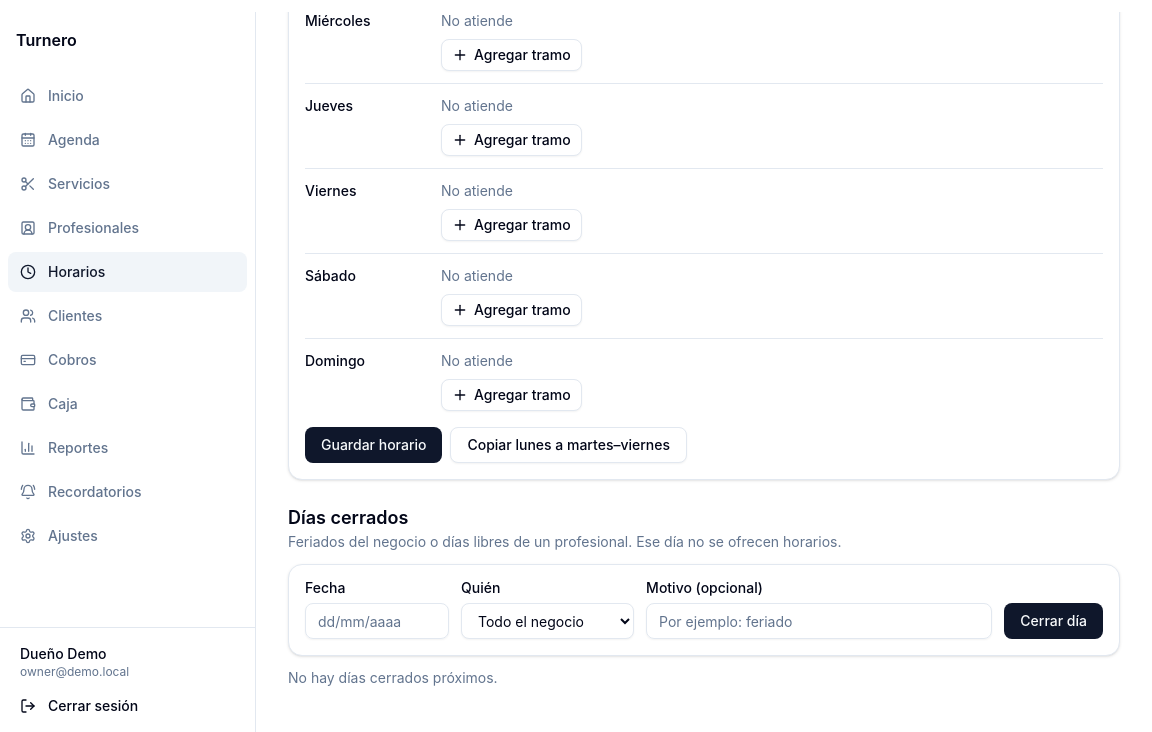
Test case: schedules page: closed days › asks for a date and shows the duplicate error from the API
The width and height of the screenshot is (1152, 732).
(page scrolled)
Click the button "Cerrar día" at x=1054, y=621, box [1004,603,1103,639]
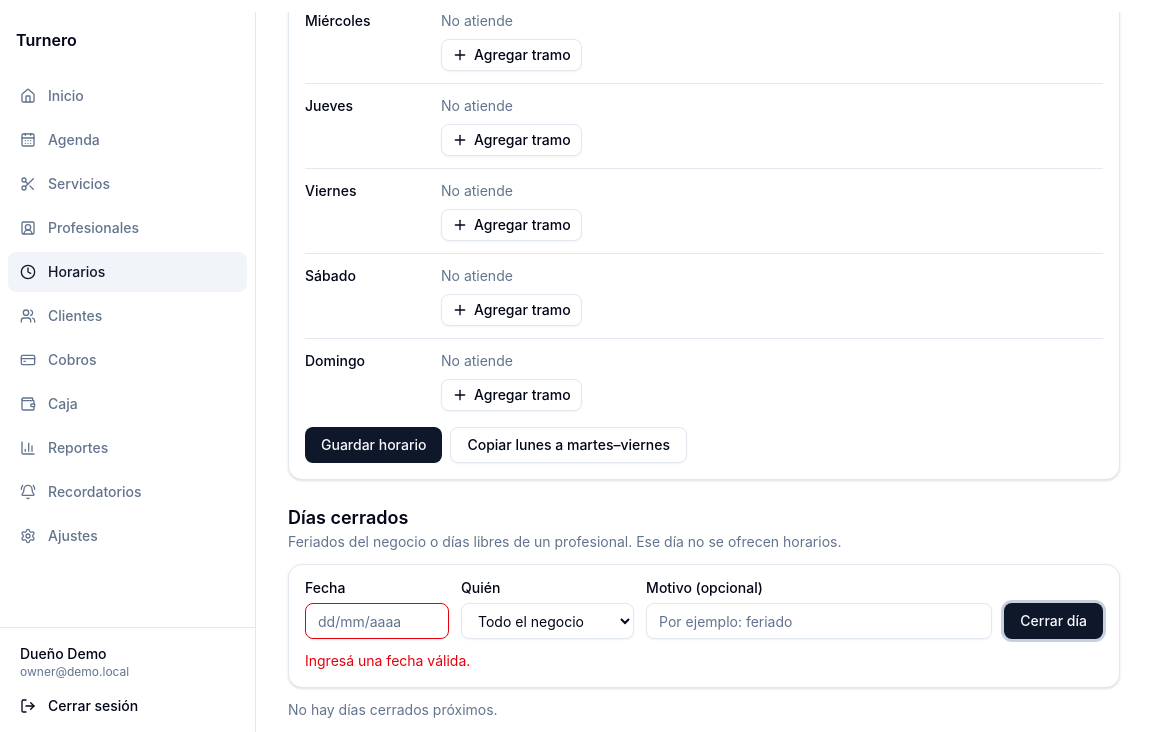
Check: the text "Ingresá una fecha válida." is shown, box [305,652,470,669]
Type "25/12/2026" into the field labelled "Fecha" at x=377, y=621, box [305,603,449,639]
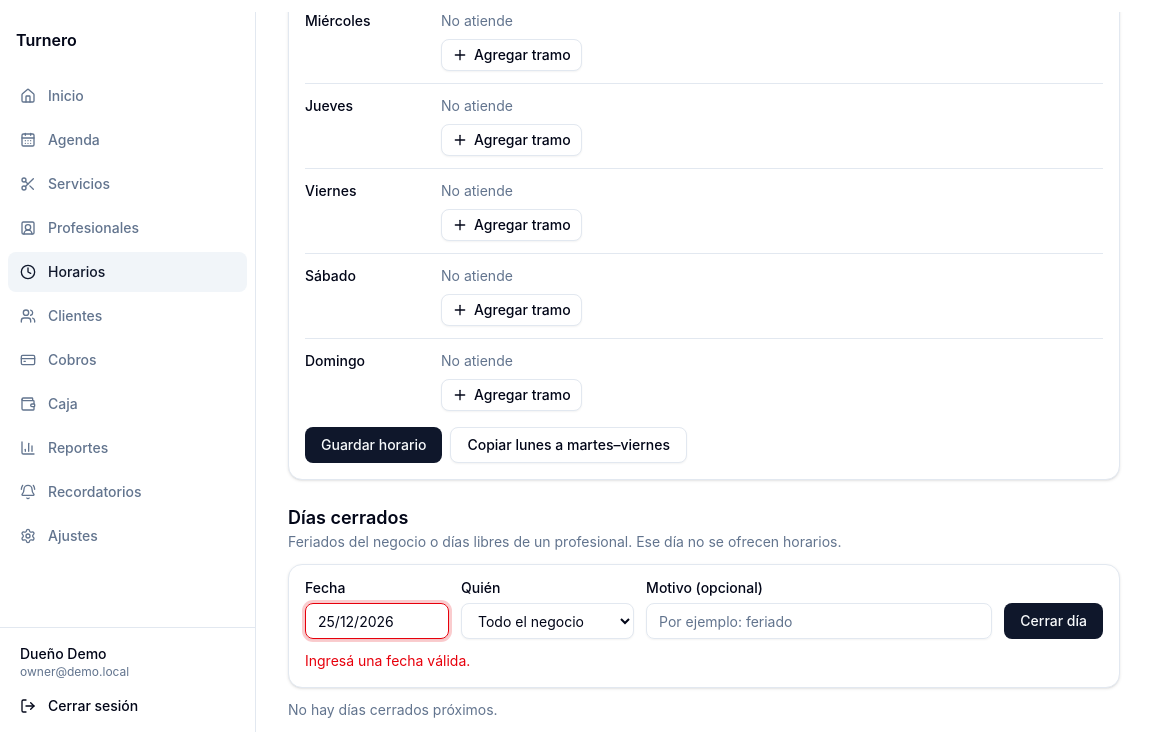
Click the button "Cerrar día" at x=1054, y=621, box [1004,603,1103,639]
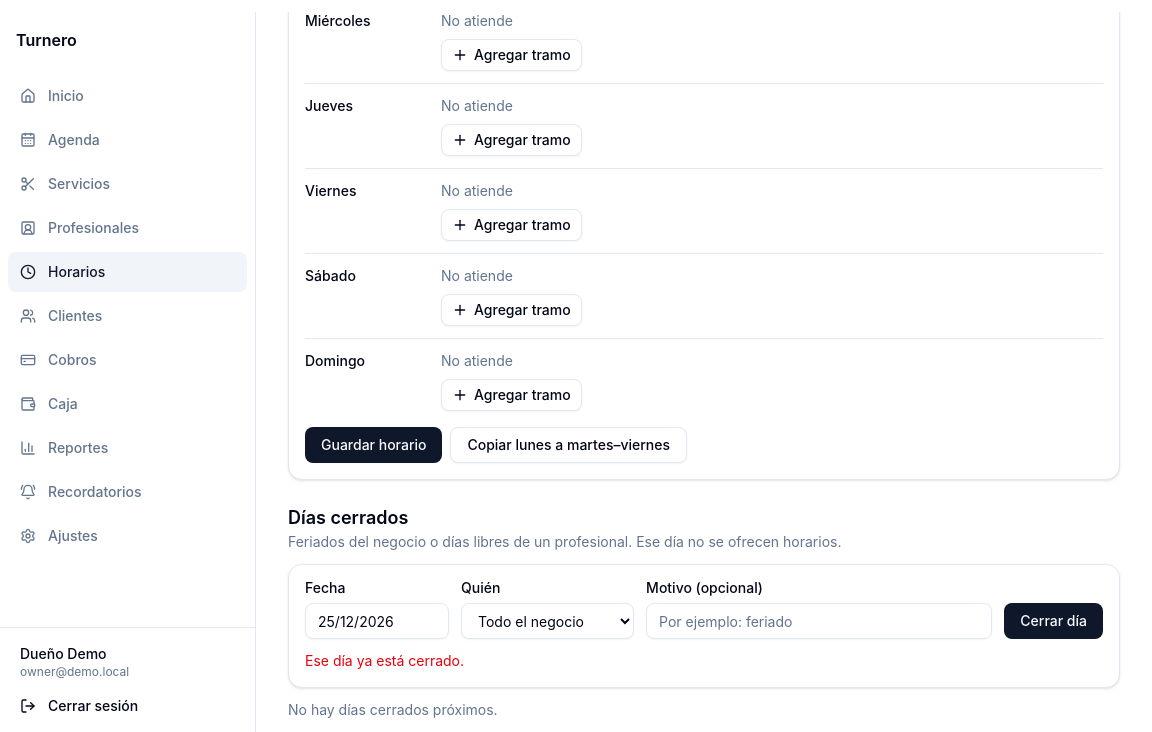
Check: the text "Ese día ya está cerrado." is shown, box [305,652,464,669]
